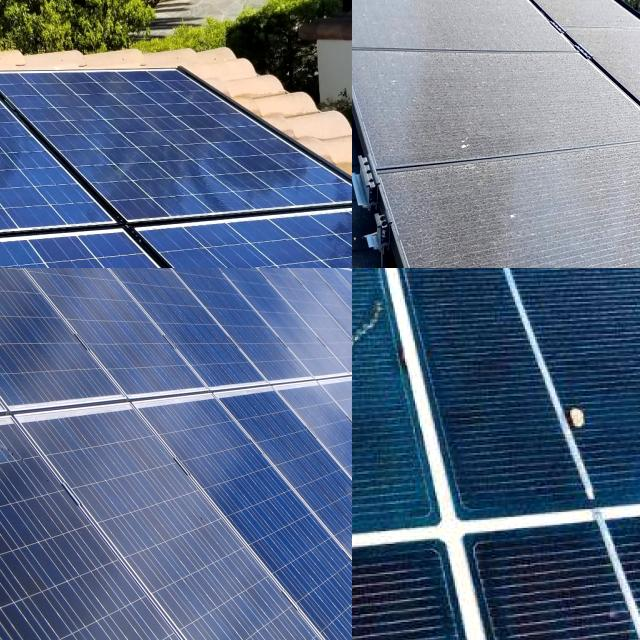crack: (18, 409, 352, 640), (147, 398, 352, 640), (34, 268, 296, 436), (0, 268, 228, 439), (217, 369, 352, 615), (131, 268, 315, 414), (258, 353, 352, 608), (0, 268, 115, 462), (180, 268, 348, 398), (286, 341, 352, 577), (46, 254, 141, 268), (0, 247, 40, 268)
dust: (362, 58, 588, 150), (426, 174, 640, 268), (352, 0, 524, 41), (352, 0, 478, 20), (352, 0, 441, 22)
shadow: (352, 280, 409, 532)
